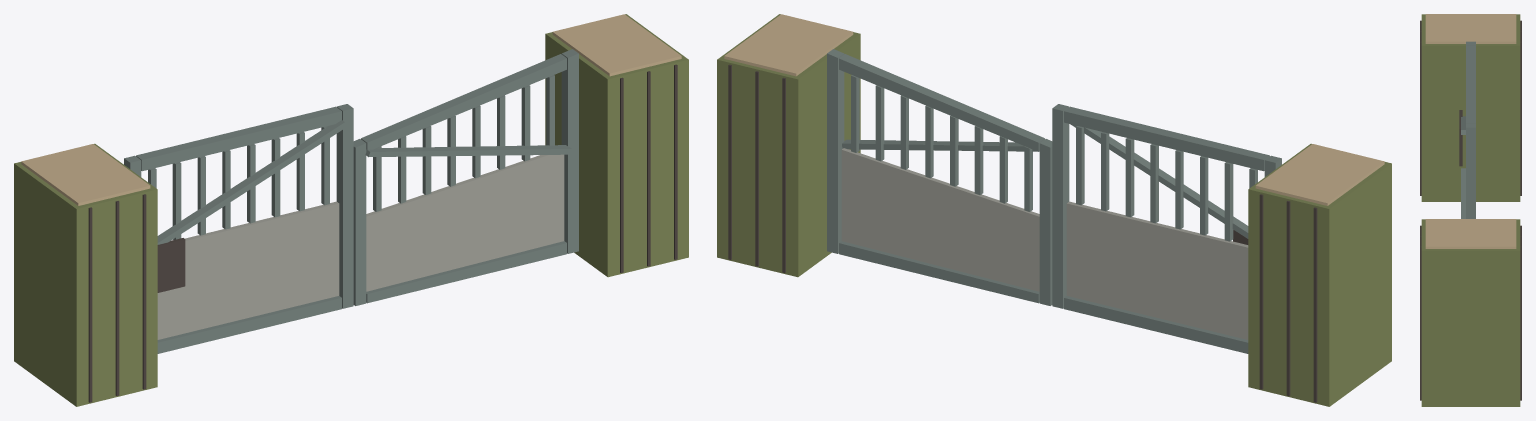
File: SM_PuertaVia_v0_TuboChapa_e1_Danado_LOD0.fbx
The picture shows the model from 3 angles, left to right: view 1: azimuth 30°, elevation 25°; view 2: azimuth 150°, elevation 25°; view 3: azimuth 270°, elevation 25°; orthographic projection. The views are drawn at different scales.
Parts seen in each view (by area): view 1: SM_bloques.puerta_via_v1_LOD0, Hoja_E, Hoja_O; view 2: SM_bloques.puerta_via_v1_LOD0, Hoja_E, Hoja_O; view 3: SM_bloques.puerta_via_v1_LOD0, Hoja_O, Hoja_E.
Boxes of the visible parts, bbox=[...] form: SM_bloques.puerta_via_v1_LOD0: bbox=[14, 14, 688, 406]; Hoja_E: bbox=[353, 49, 578, 305]; Hoja_O: bbox=[124, 104, 353, 353]; SM_bloques.puerta_via_v1_LOD0: bbox=[717, 14, 1391, 406]; Hoja_E: bbox=[827, 49, 1052, 305]; Hoja_O: bbox=[1052, 104, 1281, 353]; SM_bloques.puerta_via_v1_LOD0: bbox=[1420, 14, 1521, 406]; Hoja_O: bbox=[1459, 41, 1475, 166]; Hoja_E: bbox=[1461, 160, 1475, 218].
Size of the model in its own units: 6.8 by 2.16 by 1.24.
